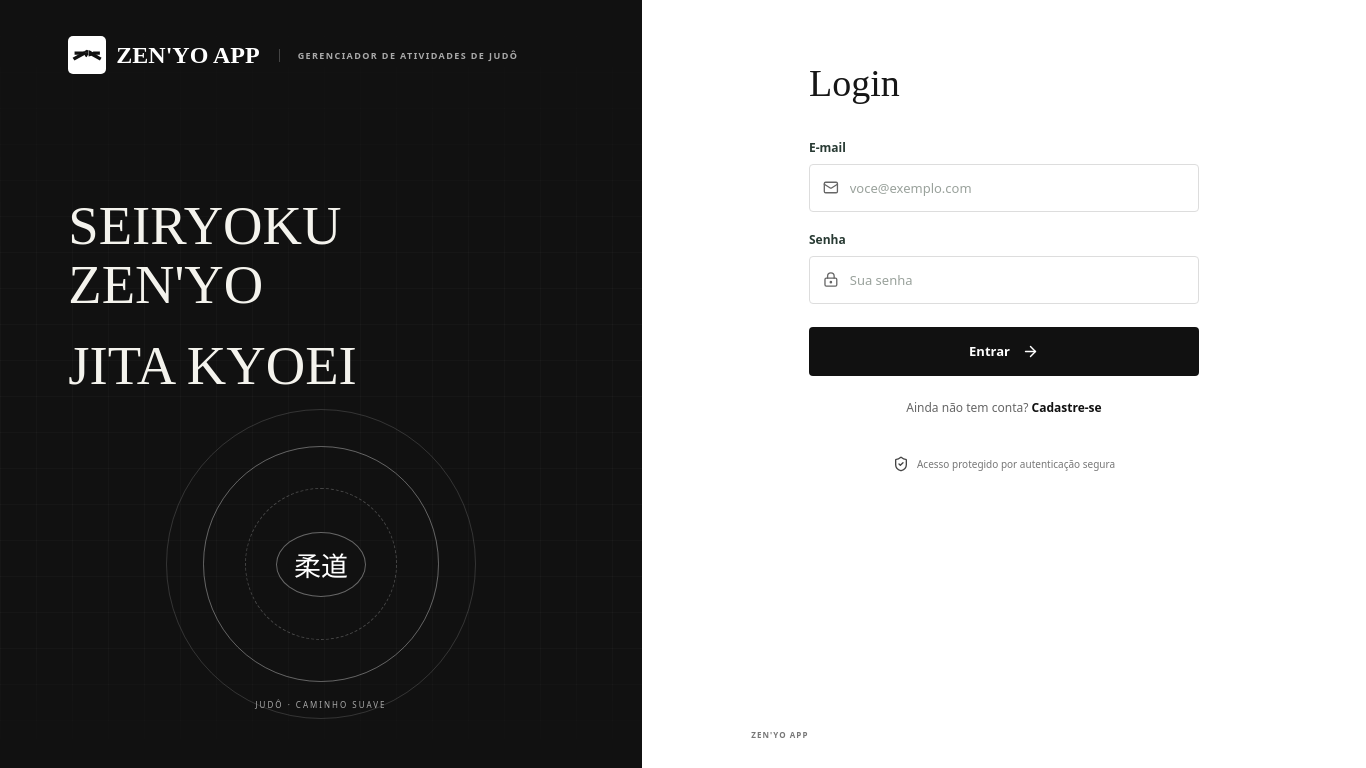
Test: sessão e navegação protegida › atualiza as telas consumidoras do Provider após autenticar
This screenshot has width=1366, height=768.
Expected: the heading "Login" is shown, [809, 62, 900, 104]
Type "ana@example.com" into the field labelled "E-mail".
click(1017, 188); type("ana@example.com")  # box [850, 164, 1185, 210]
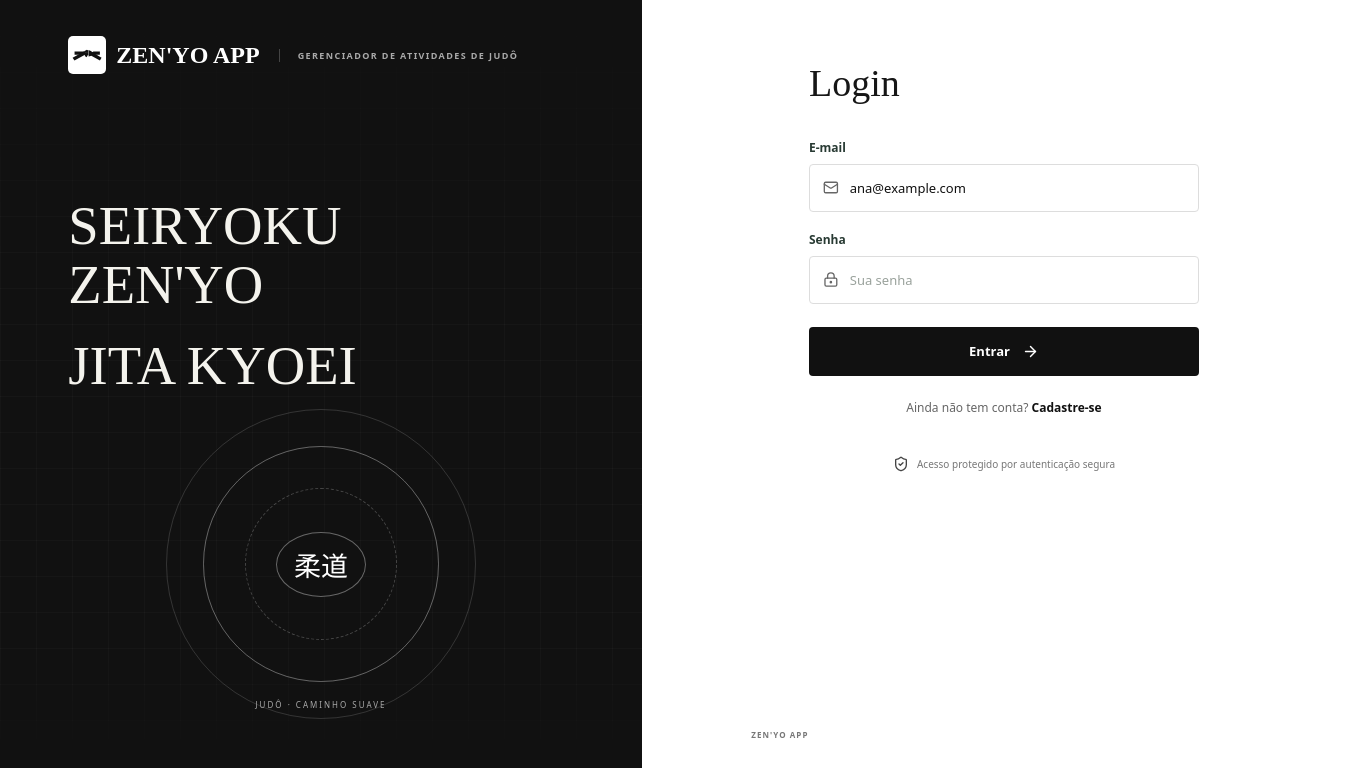
Type "senha-segura" into the password field labelled "Senha".
click(1017, 280); type("senha-segura")  # box [850, 256, 1185, 302]
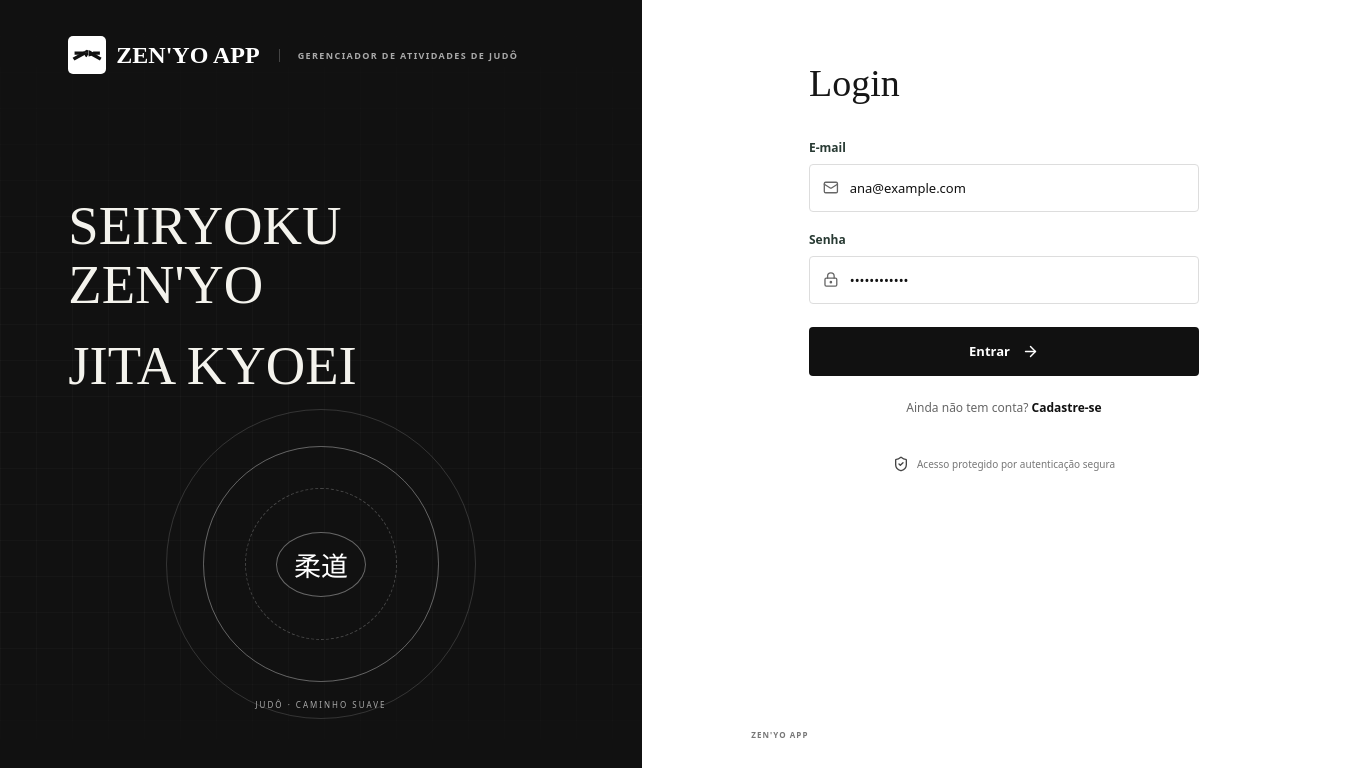
Click the button "Entrar".
click(1004, 351)  # box [809, 326, 1199, 376]
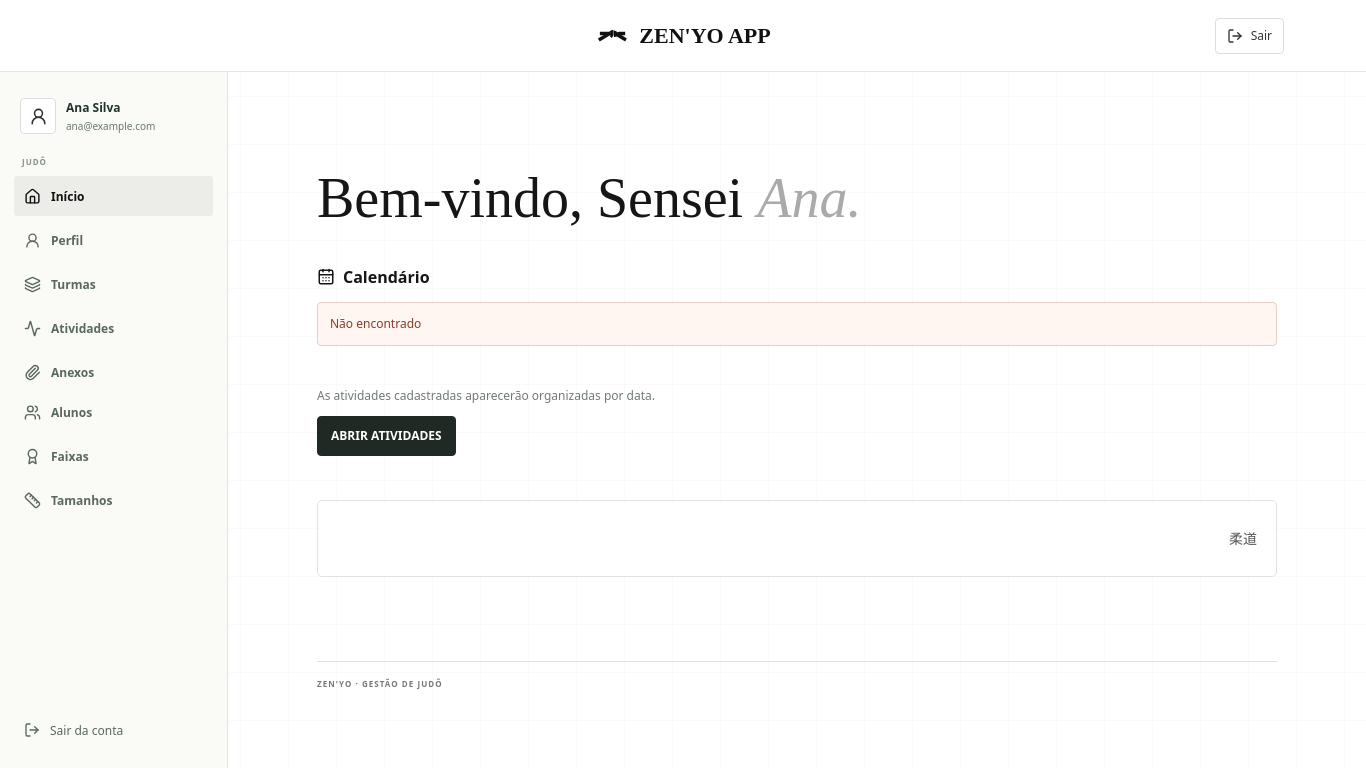
Now the navigation bar named "Navegação principal" is shown, box [14, 176, 213, 392]
Now the text "Ana Silva" is shown, box [66, 99, 120, 116]
